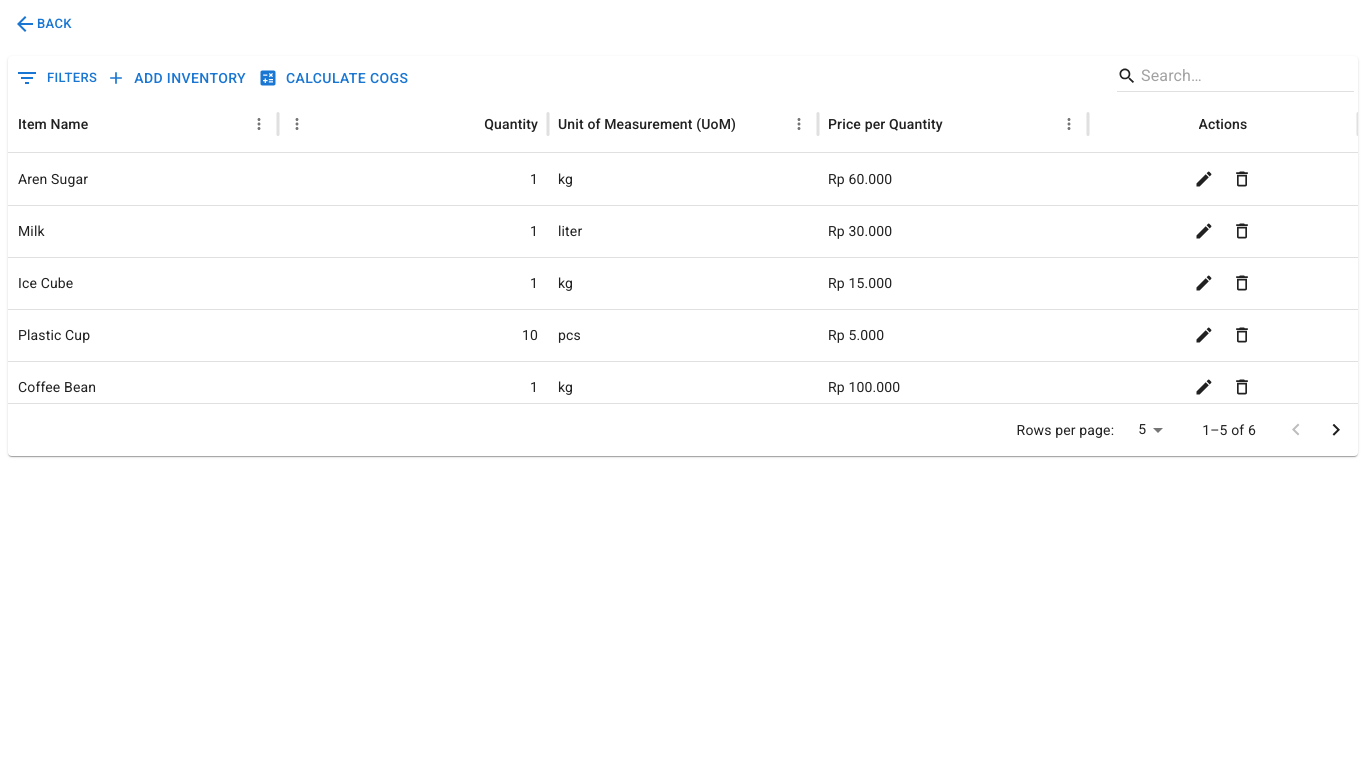
Test: inventory › add modal › should render add modal correctly
Click the button "Add Inventory".
click(178, 79)  # box [102,60,254,97]
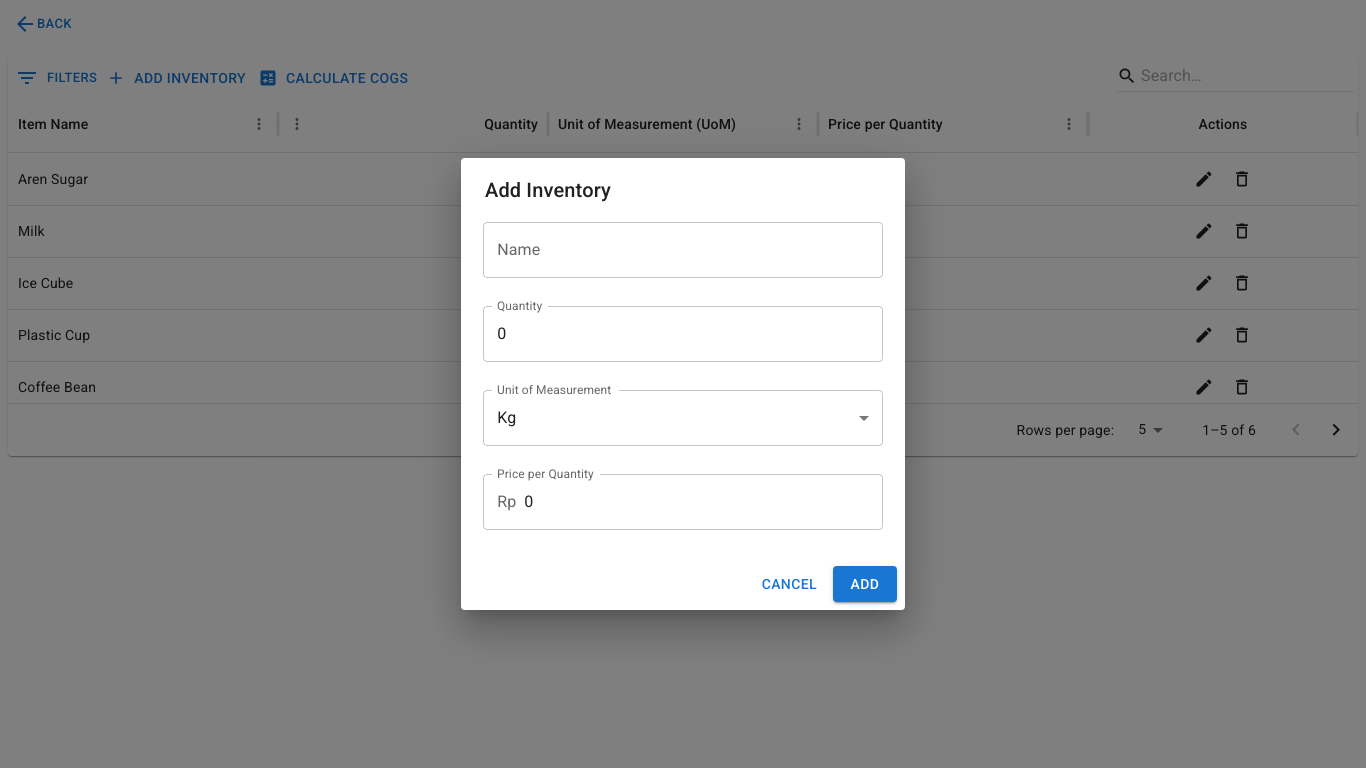
expect the element with test id "add-modal" is shown: met
expect the heading "Add Inventory" is shown: met, box [485,178,611,202]
expect the dropdown labelled "kg" is shown: met, box [497,408,516,427]
